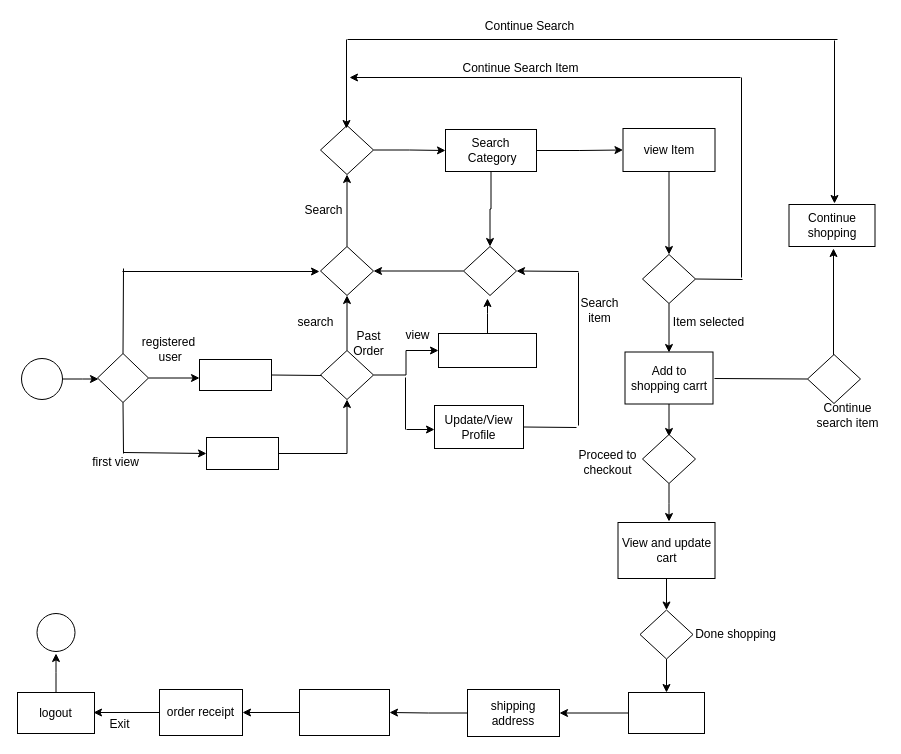
Image size: 901x754. Some labels were removed from this diagram. The centre of each missing label's shape, as x and y in pixels:
checkout: the point at 666,713
Login: the point at 235,374
make payment: the point at 344,712
My Orders: the point at 487,350
Register: the point at 242,453
